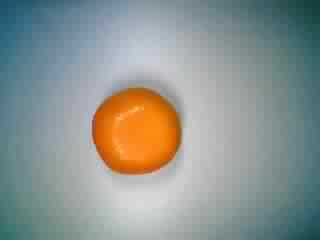orange: (87, 78, 185, 176)
